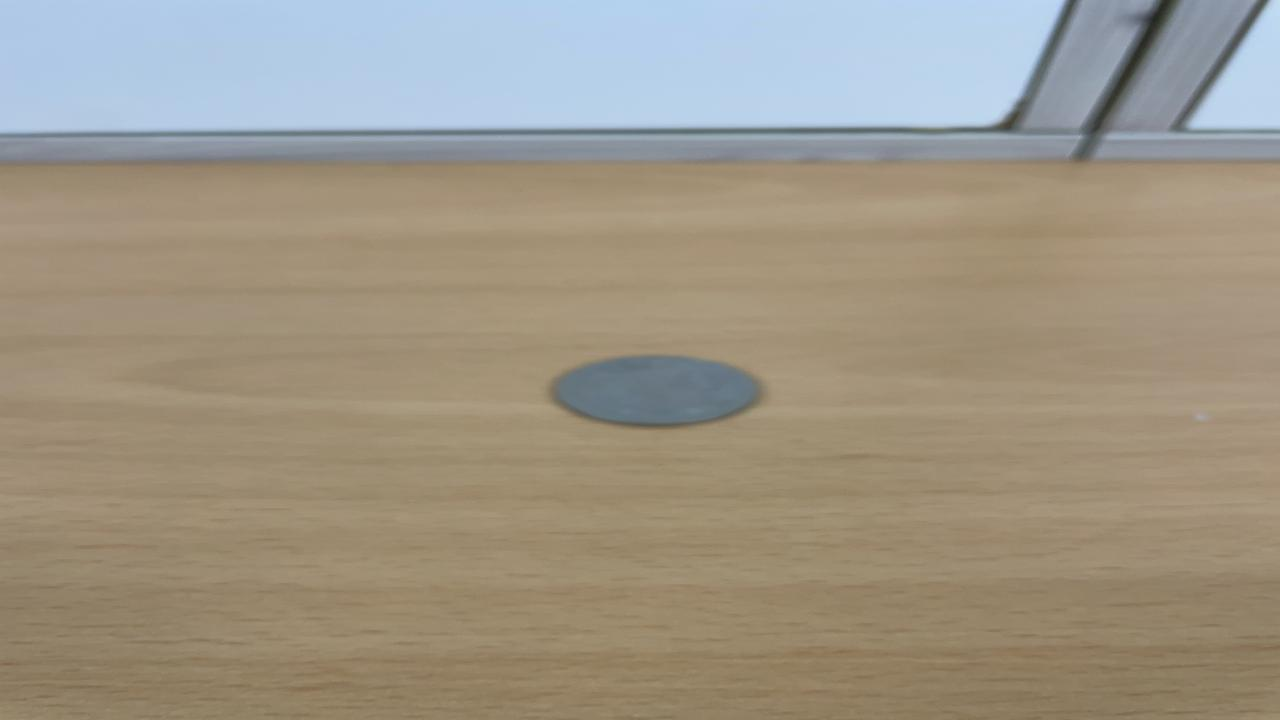coin: (548, 353, 765, 427)
